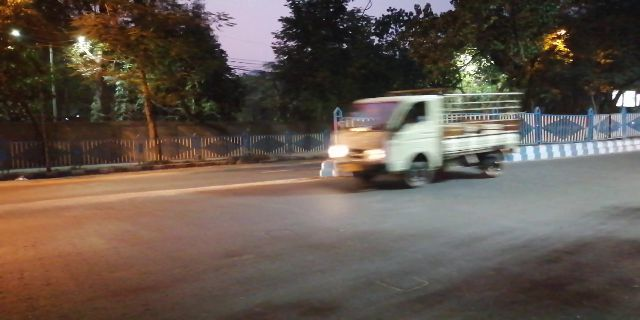Minitruck: (328, 89, 529, 190)
